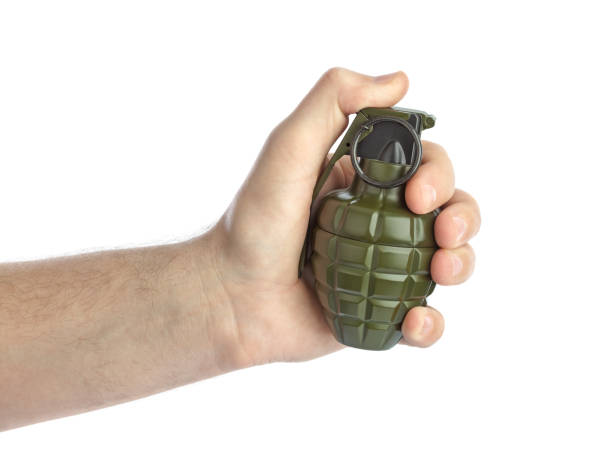e1: (296, 103, 448, 350)
